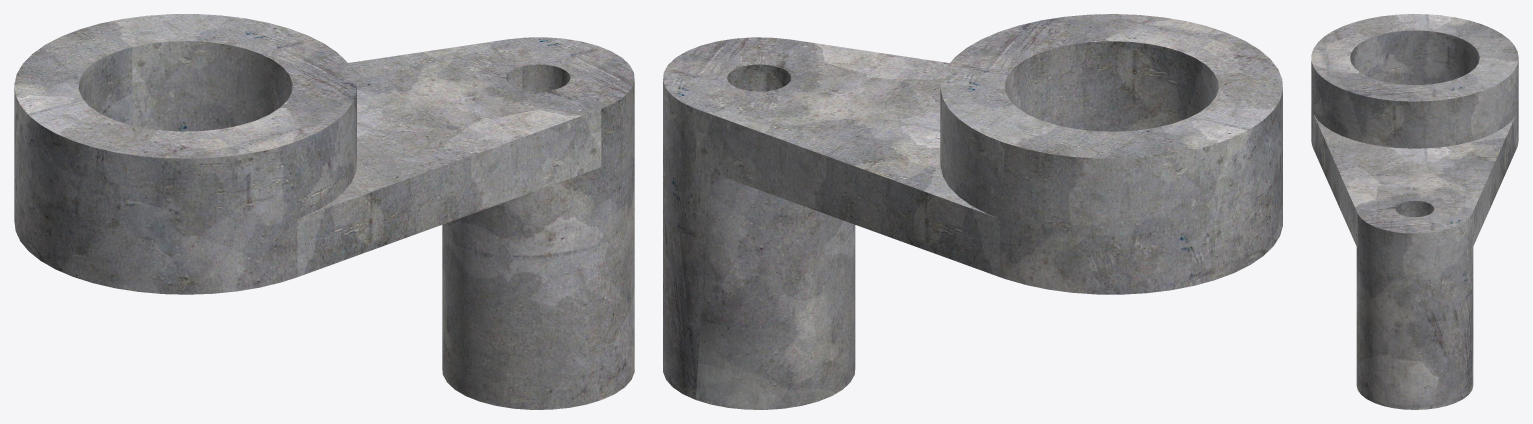
Rendered from seca_prob3.gltf.
The picture shows the model from 3 angles, left to right: view 1: azimuth 30°, elevation 25°; view 2: azimuth 150°, elevation 25°; view 3: azimuth 270°, elevation 25°; orthographic projection. The views are drawn at different scales.
Visible parts, largest first — view 1: SecA_Prob3; view 2: SecA_Prob3; view 3: SecA_Prob3.
Part boxes in pixels (left/top/right/bottom): SecA_Prob3: left=14, top=14, right=634, bottom=409; SecA_Prob3: left=663, top=14, right=1282, bottom=409; SecA_Prob3: left=1311, top=14, right=1518, bottom=409.
Bounding box in the file's own units: 0.063 × 0.038 × 0.032.
1 material, 1 textured.
